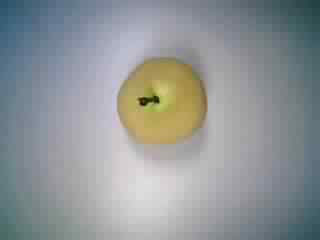pear: (106, 50, 221, 155)
